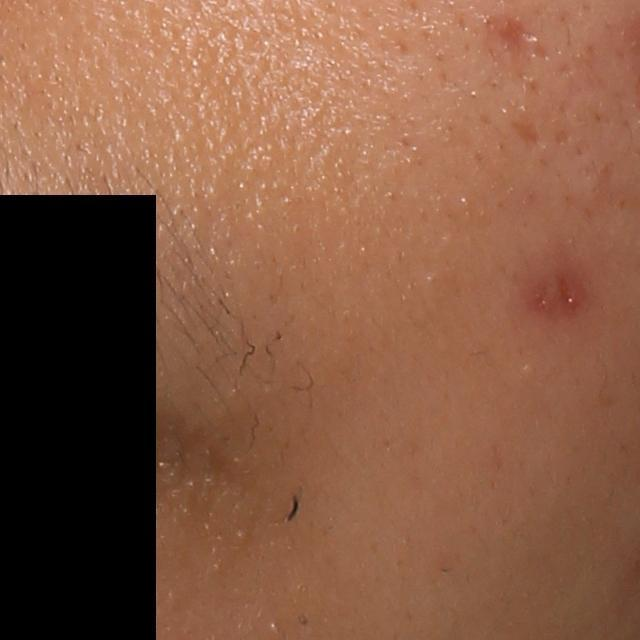atrophic_scar: (485, 15, 540, 77), (507, 120, 540, 148)
